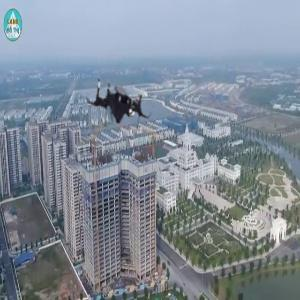drone: (83, 67, 158, 142)
